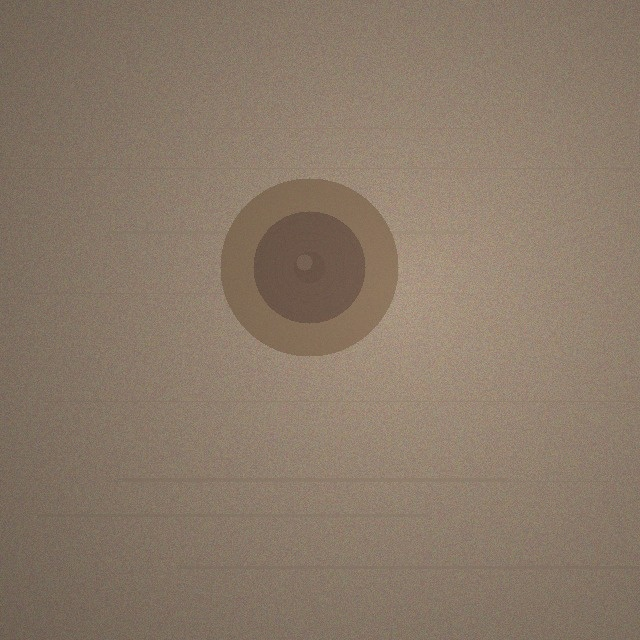good: (220, 178, 398, 356)
